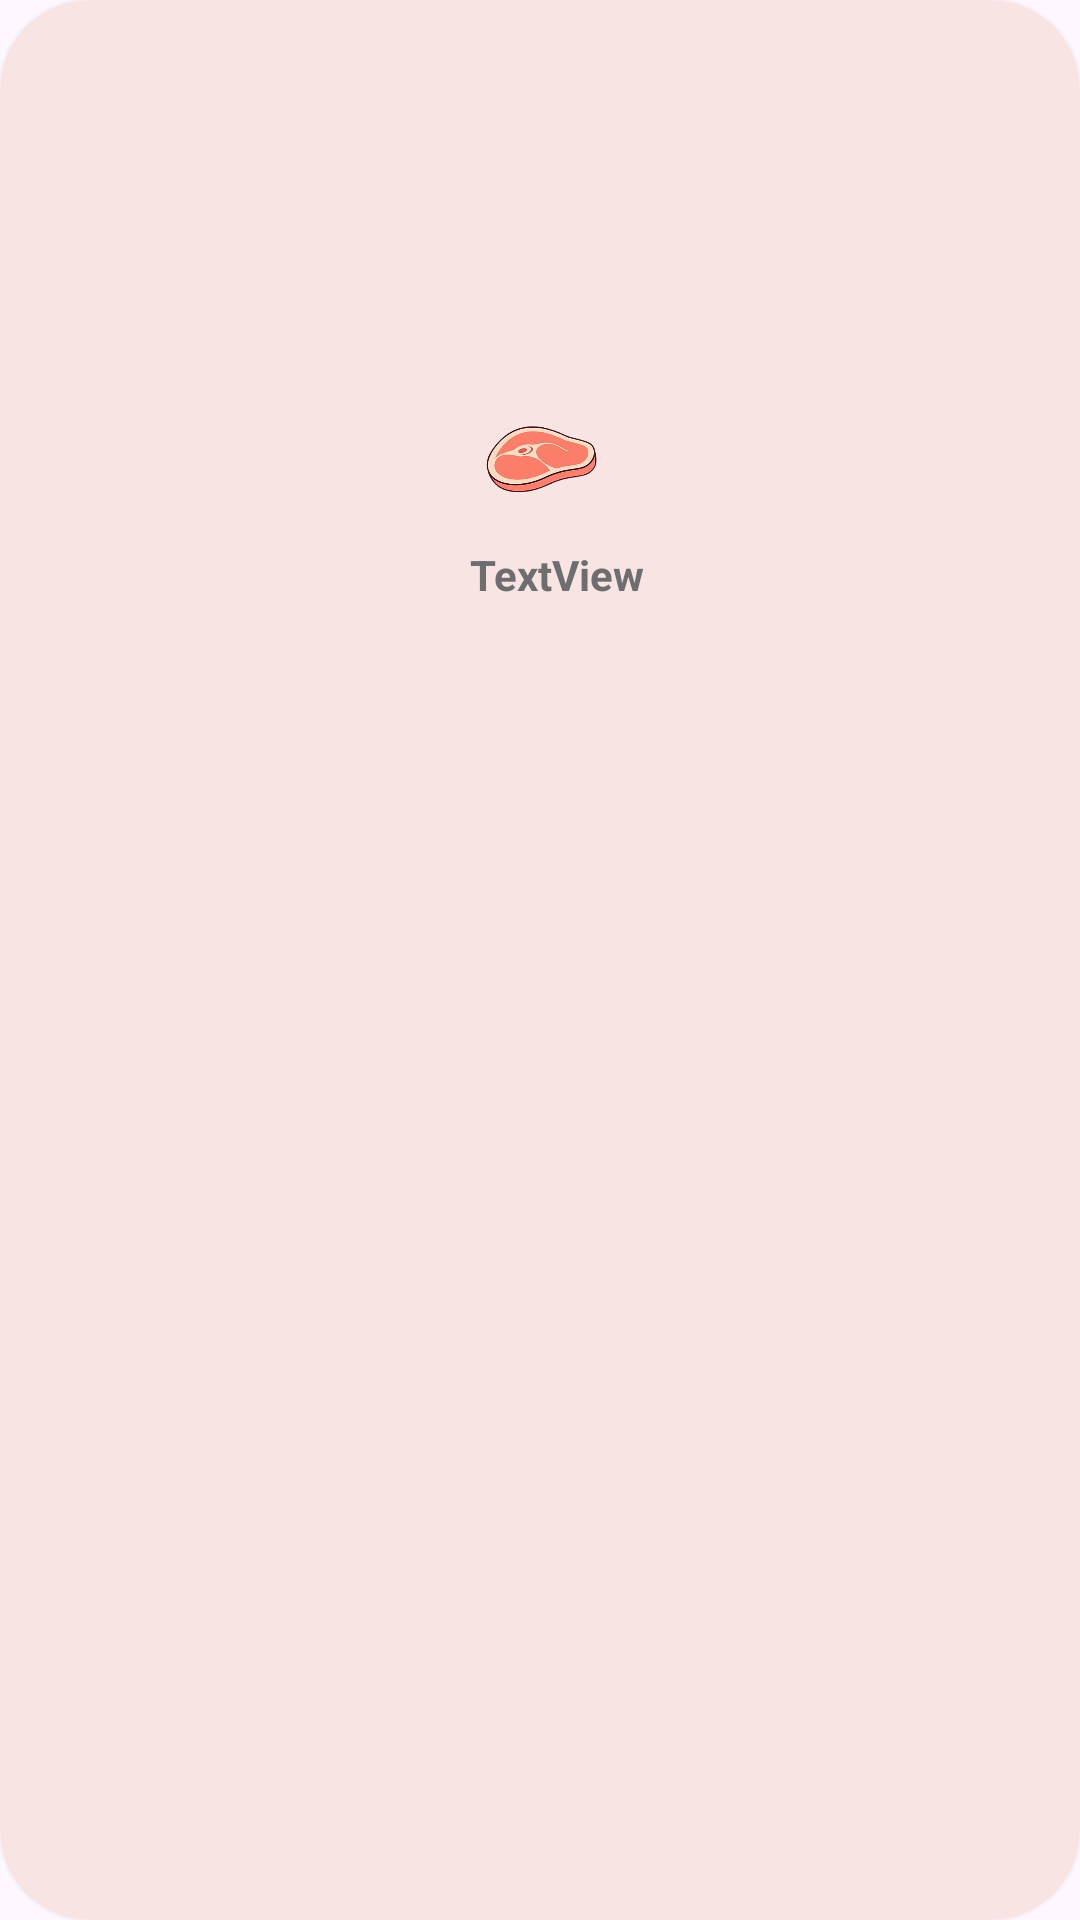

Point at icon controls on the screen. Image size 1080x1920, points as (x=x, y=y).
catcarne: (x=542, y=459)
